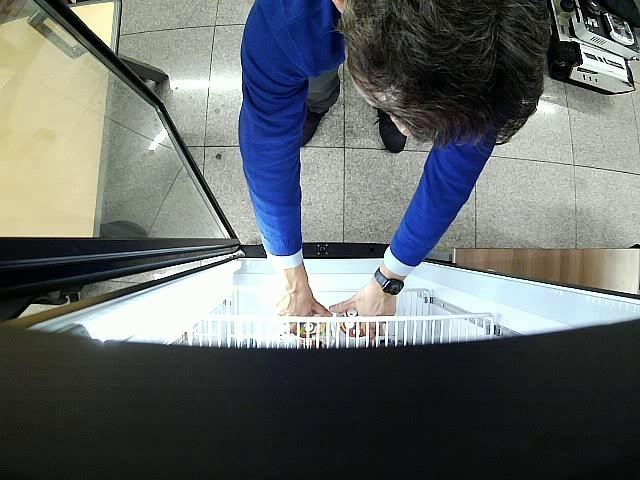06_nuguri_S: (336, 307, 364, 336), (296, 312, 327, 337)
